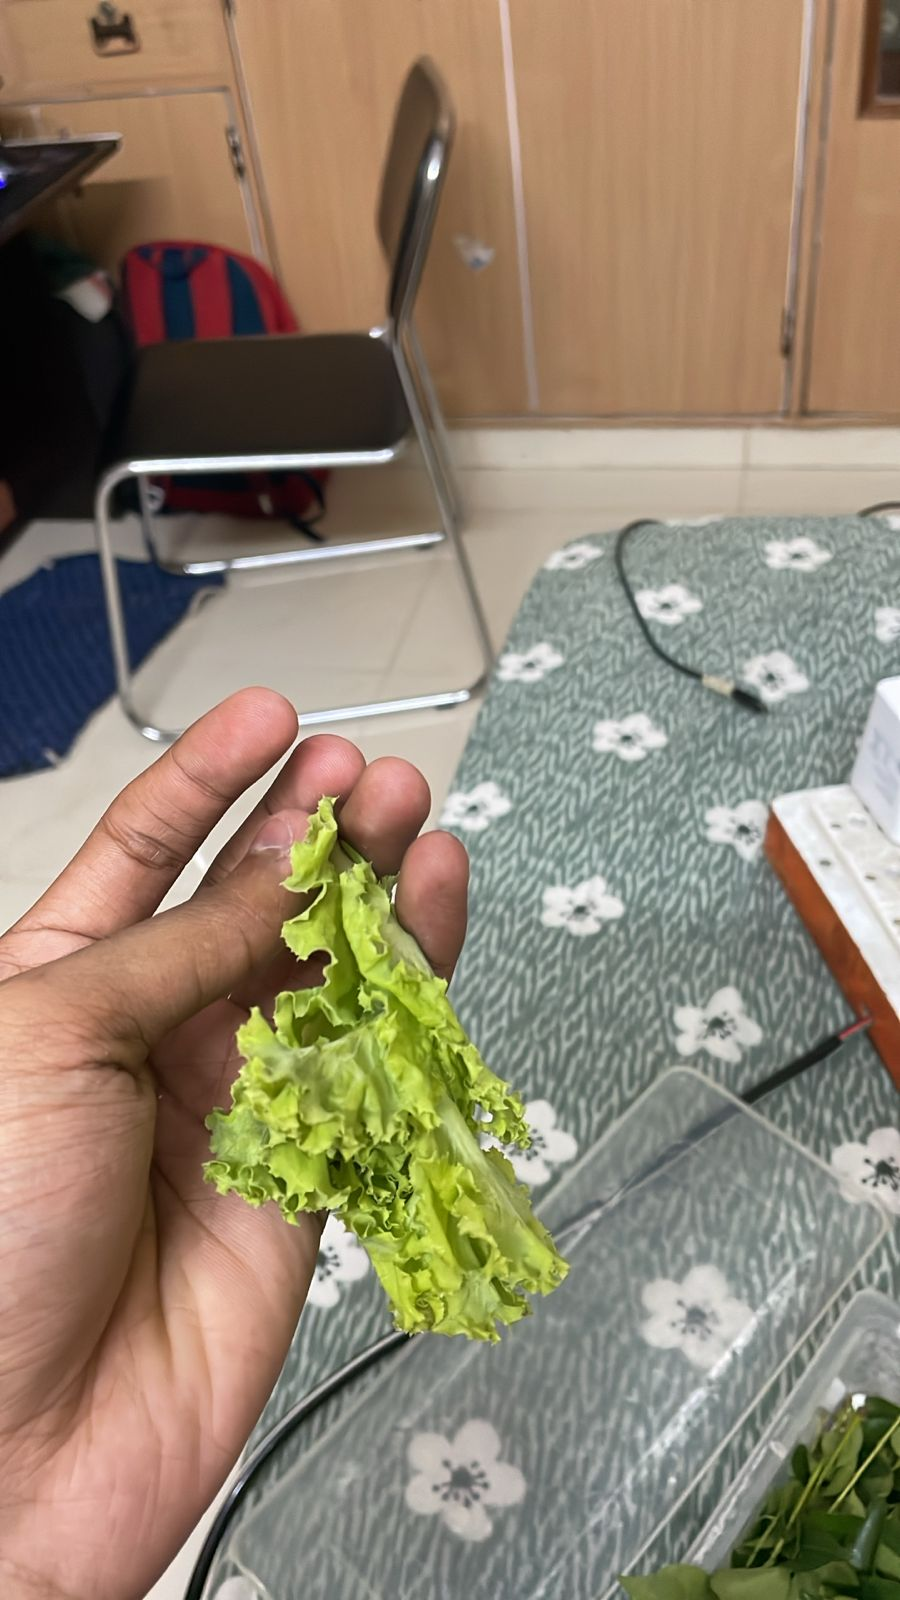wet: (230, 790, 598, 1293)
